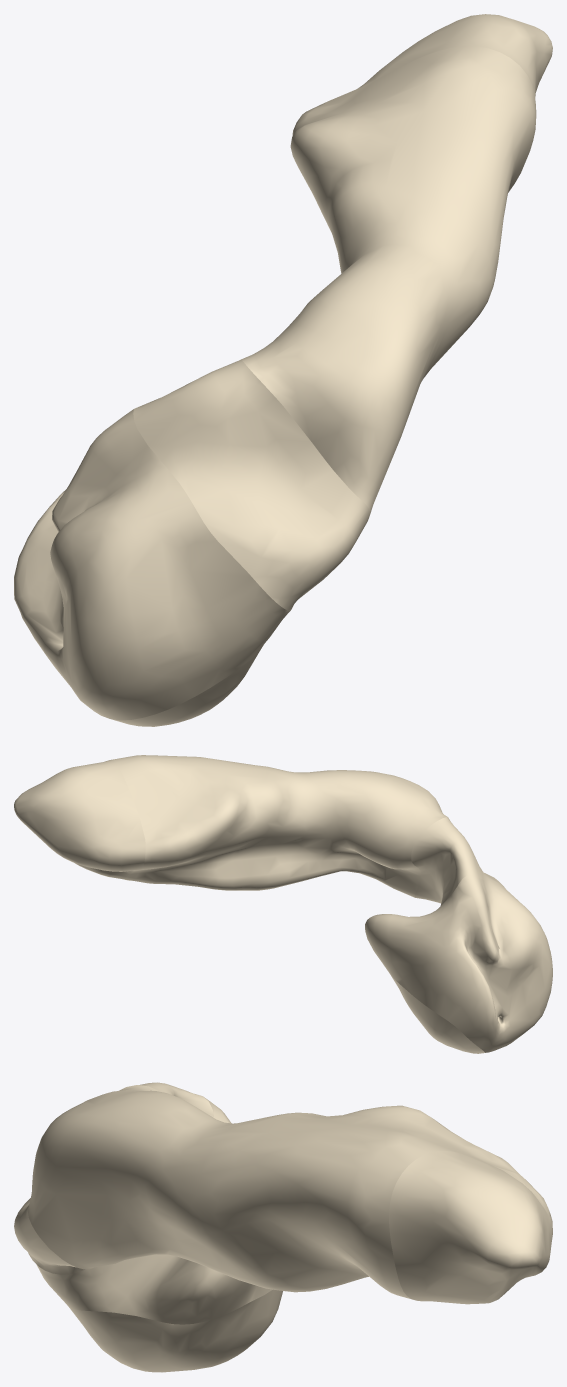
File: pancreas.glb
3 views of the same model, one above another, from view 1: azimuth 30°, elevation 25°; view 2: azimuth 150°, elevation 25°; view 3: azimuth 270°, elevation 25° (orthographic). The views are drawn at different scales.
Visible parts, largest first — view 1: VH_M_body_of_pancreas; view 2: VH_M_body_of_pancreas; view 3: VH_M_body_of_pancreas.
Boxes of the visible parts, left/top/right/bottom form: VH_M_body_of_pancreas: left=14, top=14, right=552, bottom=726; VH_M_body_of_pancreas: left=14, top=755, right=552, bottom=1053; VH_M_body_of_pancreas: left=14, top=1082, right=552, bottom=1372.
Bounding box in the file's own units: 0.1114 × 0.072 × 0.0836.
